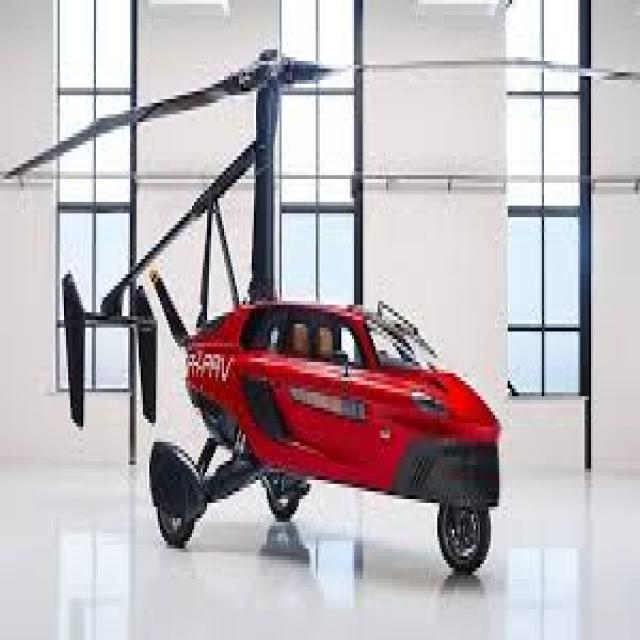Car: (124, 288, 502, 608)
